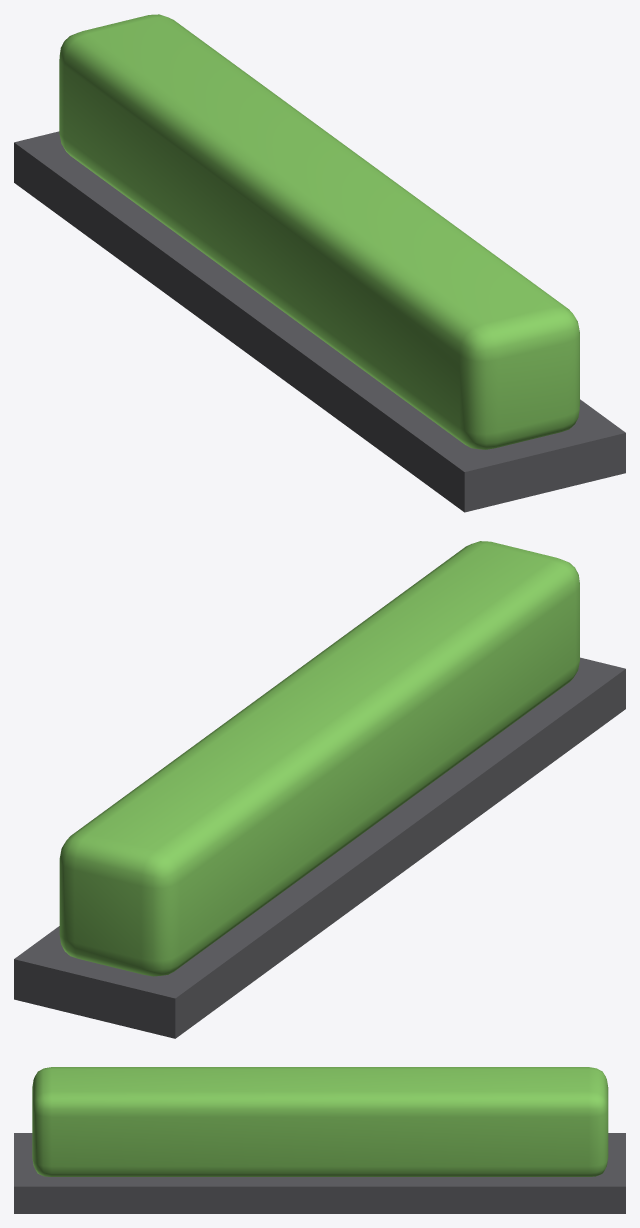
File: bush_01.fbx
3 renders of one model, top to bottom at view 1: azimuth 30°, elevation 25°; view 2: azimuth 150°, elevation 25°; view 3: azimuth 270°, elevation 25°, orthographic. The views are drawn at different scales.
Visible parts, largest first — view 1: bush_01; view 2: bush_01; view 3: bush_01.
Part boxes in pixels (left/top/right/bottom): bush_01: left=14, top=14, right=625, bottom=512; bush_01: left=14, top=541, right=625, bottom=1038; bush_01: left=14, top=1067, right=625, bottom=1213.
Bounding box in the file's own units: 1.31 × 1.22 × 6.33.
Materials: 1 (1 with a texture image).
